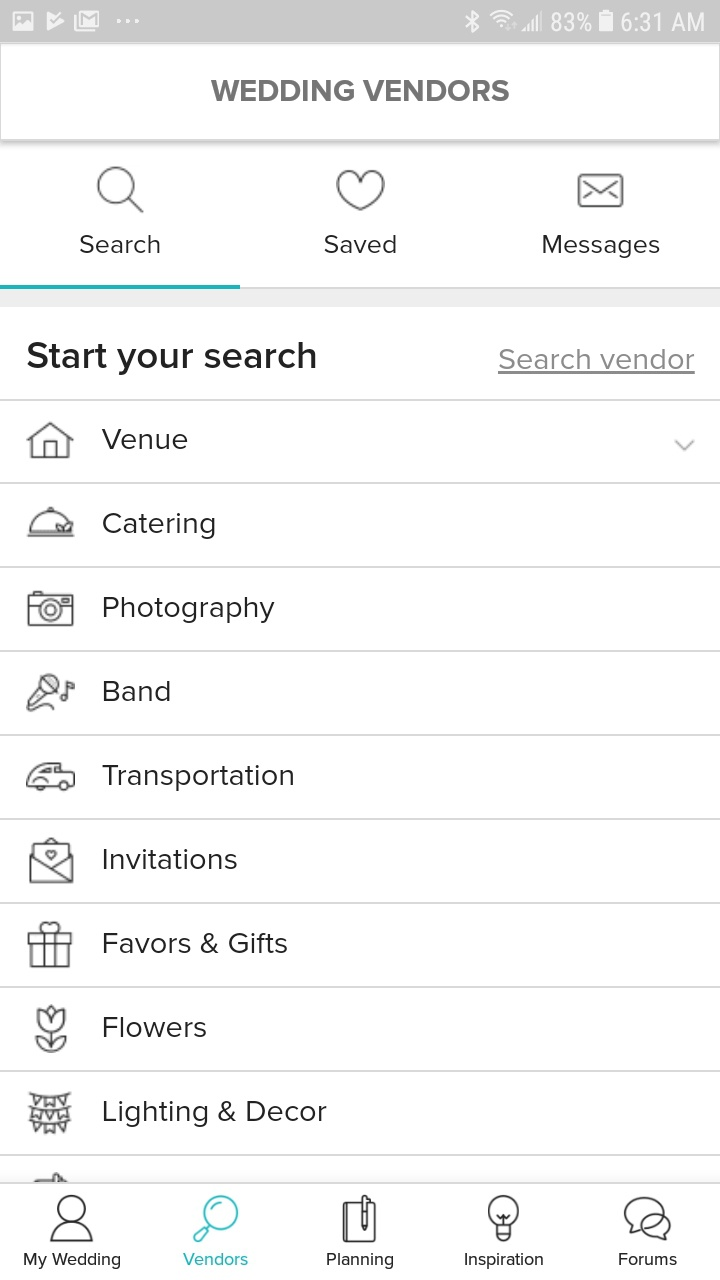Icon: (97, 166, 145, 214), (193, 1194, 239, 1243), (28, 921, 74, 969), (623, 1196, 672, 1241), (30, 837, 76, 884), (50, 1194, 94, 1243), (336, 170, 386, 212), (26, 422, 75, 460), (27, 590, 75, 627), (342, 1194, 377, 1243), (576, 174, 624, 209), (672, 440, 695, 452)
Image: (27, 673, 77, 713), (28, 1091, 73, 1135), (35, 1003, 68, 1053), (488, 1194, 520, 1242), (27, 506, 75, 538), (26, 762, 76, 792)
Text: (28, 342, 317, 376), (211, 80, 510, 103), (104, 1101, 328, 1128), (498, 348, 695, 375), (102, 765, 294, 792), (104, 596, 276, 624), (104, 932, 288, 954), (103, 512, 216, 540), (104, 848, 238, 870), (543, 236, 660, 260), (104, 1017, 207, 1038), (101, 429, 188, 451), (24, 1252, 121, 1270), (80, 235, 161, 255), (325, 235, 397, 255), (465, 1252, 544, 1270), (104, 681, 171, 702), (327, 1252, 394, 1270), (183, 1252, 249, 1266), (618, 1253, 677, 1266)
UpperTaskBar: (1, 1, 720, 43)
